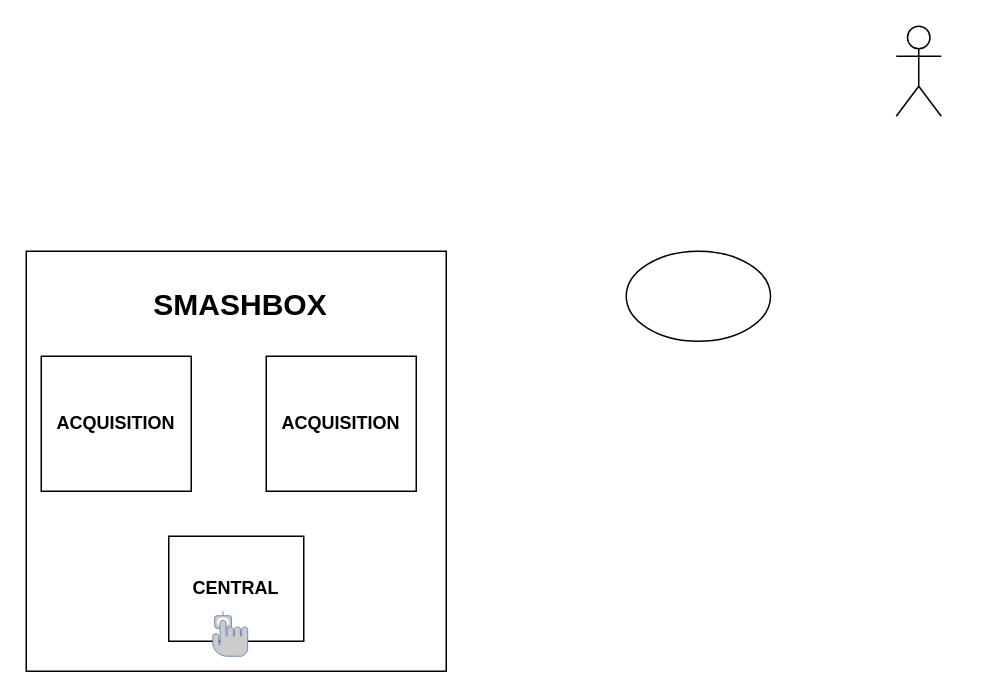
Image size: 984x698. Some labels were removed from this diagram. The shapes that lost their labels are listed below. From the top down, each one's centre as x and y in pixels, then its label:
At point 918,70: "Customer".
At point 698,295: "INTERNET".
